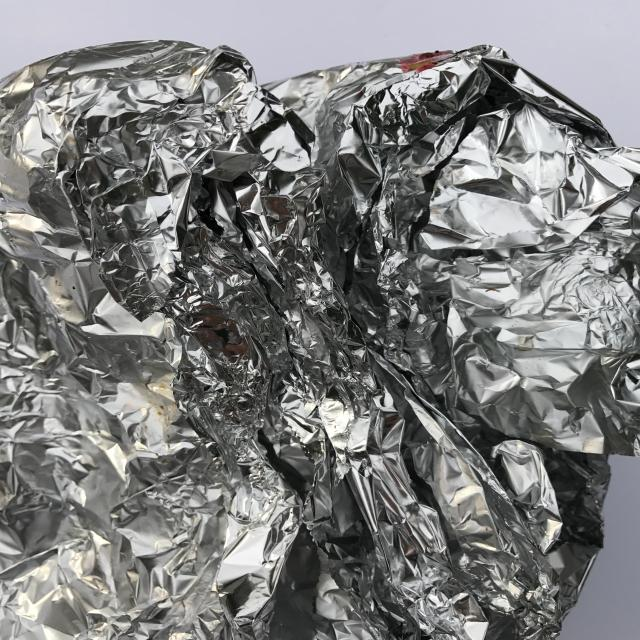metal: (1, 39, 640, 640)
